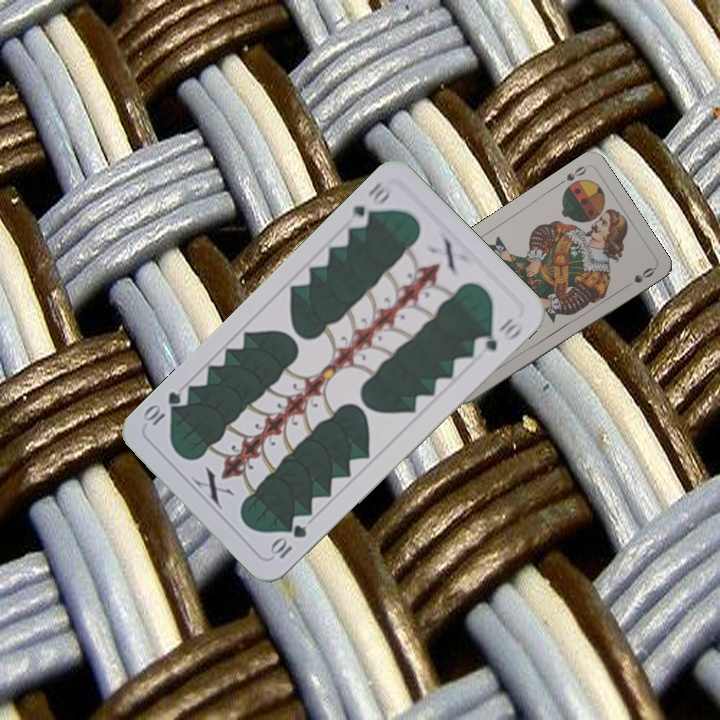G10: (344, 177, 396, 232), (266, 520, 310, 562)
SO: (554, 162, 590, 188)
